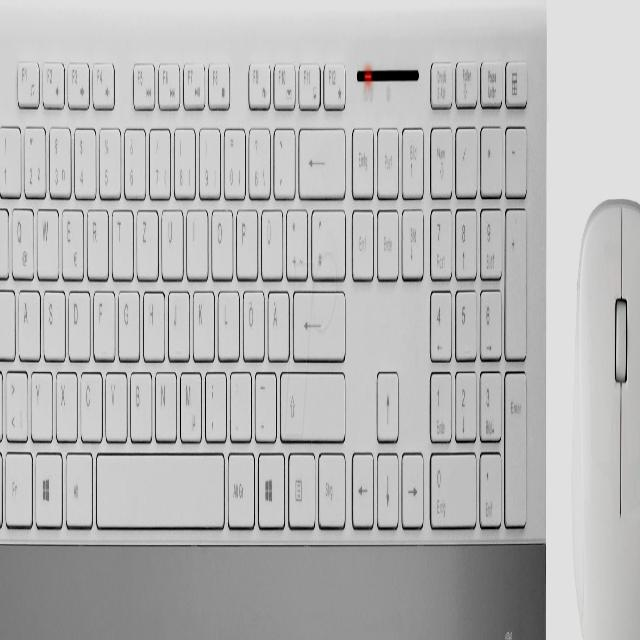0: (222, 123, 244, 195)
1: (0, 121, 20, 195)
2: (23, 121, 45, 193)
3: (47, 120, 70, 194)
4: (73, 120, 95, 194)
5: (98, 121, 120, 193)
6: (123, 122, 145, 196)
7: (148, 124, 170, 196)
8: (172, 123, 194, 195)
9: (197, 122, 219, 196)
a: (17, 284, 39, 356)
accent: (272, 123, 294, 197)
ae: (266, 285, 288, 359)
alt-left: (64, 447, 92, 527)
altgr-right: (226, 447, 254, 527)
b: (128, 365, 151, 439)
c: (79, 366, 101, 440)
caret: (0, 121, 6, 193)
comma: (203, 365, 225, 439)
d: (67, 285, 89, 359)
del: (297, 122, 344, 196)
e: (60, 202, 82, 276)
enter: (291, 284, 345, 358)
f: (92, 285, 114, 356)
g: (117, 284, 139, 356)
h: (142, 285, 164, 359)
hash: (309, 203, 345, 277)
i: (185, 202, 207, 276)
j: (166, 285, 188, 359)
k: (192, 285, 214, 359)
keyboard: (0, 28, 546, 550)
l: (216, 284, 238, 356)
less: (4, 365, 27, 439)
m: (179, 366, 201, 440)
minus: (253, 367, 275, 439)
n: (154, 367, 176, 439)
o: (210, 203, 232, 277)
oe: (241, 284, 263, 356)
p: (235, 202, 257, 276)
plus: (285, 203, 307, 277)
point: (228, 366, 250, 438)
q: (10, 202, 33, 276)
r: (85, 204, 107, 278)
s: (42, 284, 64, 356)
shift-left: (0, 363, 9, 437)
shift-lock: (0, 282, 16, 356)
shift-right: (278, 365, 346, 439)
space: (94, 447, 224, 529)
ss: (247, 122, 269, 196)
strg-left: (0, 445, 9, 525)
strg-right: (317, 447, 345, 527)
t: (110, 203, 132, 277)
tab: (0, 201, 12, 275)
u: (160, 203, 182, 277)
ue: (260, 204, 282, 278)
v: (104, 365, 126, 439)
w: (36, 202, 58, 276)
x: (54, 367, 76, 439)
y: (29, 365, 51, 439)
z: (135, 203, 157, 277)
